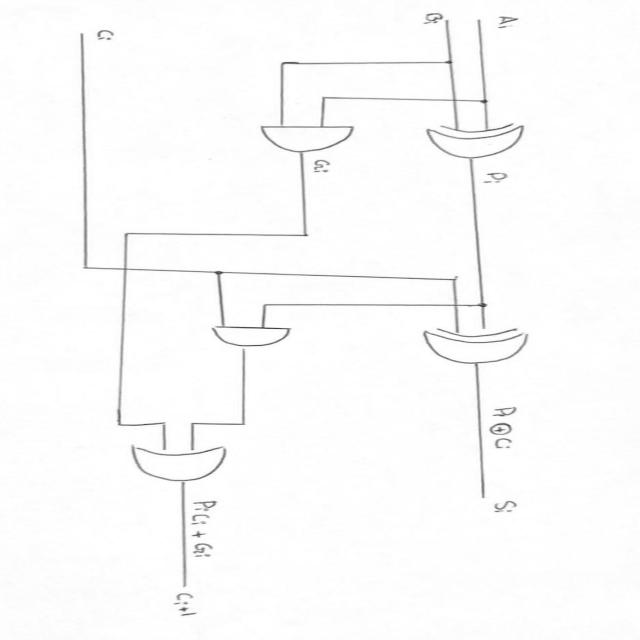AND: (195, 315, 305, 356), (254, 121, 360, 157)
OR: (115, 442, 249, 487)
XOR: (400, 324, 569, 371), (424, 119, 546, 161)
